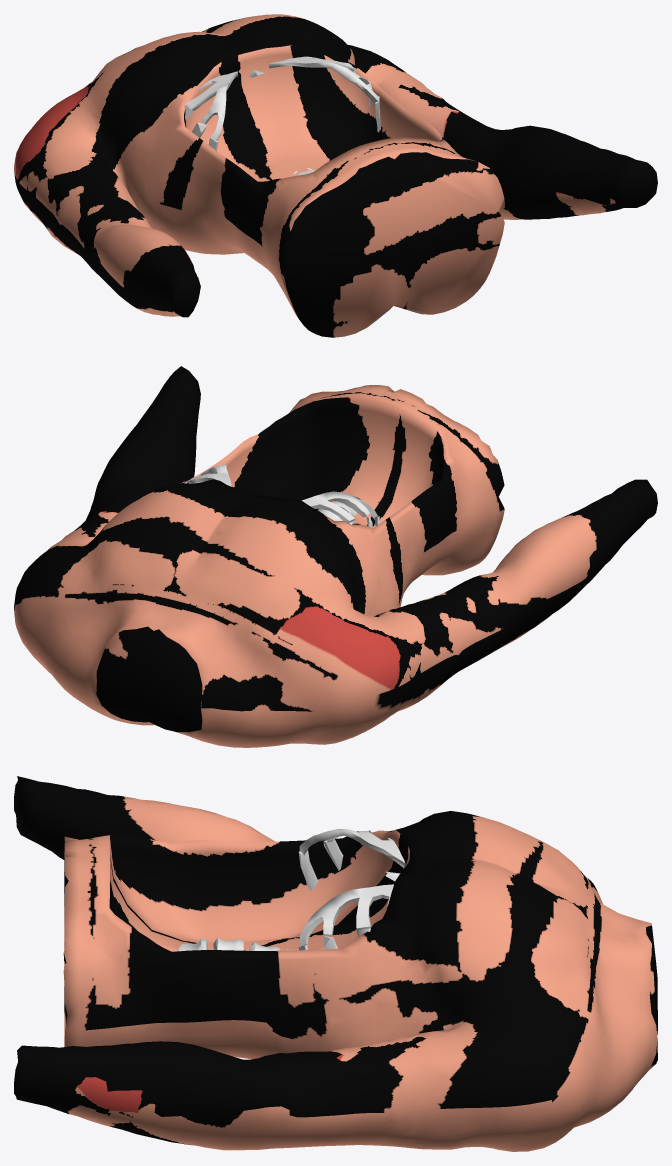
The model's file is Corpo 1.fbx.
3 renders of one model, top to bottom at view 1: azimuth 30°, elevation 25°; view 2: azimuth 150°, elevation 25°; view 3: azimuth 270°, elevation 25°, orthographic. The views are drawn at different scales.
Parts seen in each view (by area): view 1: Male.002, skeleton.001; view 2: Male.002, skeleton.001; view 3: Male.002, skeleton.001.
Boxes of the visible parts, x1,y1,x2,y2 form: Male.002: (14, 14, 657, 337); skeleton.001: (184, 56, 380, 175); Male.002: (14, 366, 657, 747); skeleton.001: (184, 464, 379, 527); Male.002: (14, 776, 657, 1151); skeleton.001: (178, 829, 405, 951).
Bounding box in the file's own units: 266 × 107 × 254.
